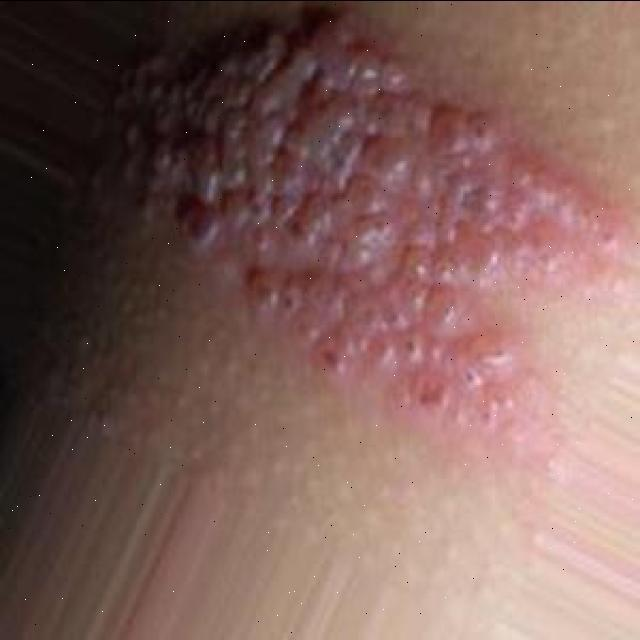Shingles: (128, 17, 622, 425)
